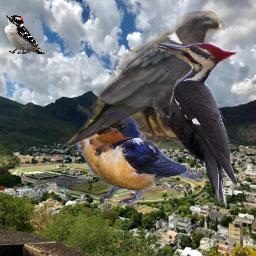Crow: (66, 11, 225, 151)
Swallow: (76, 108, 204, 206)
Woodpecker: (153, 43, 239, 208), (4, 15, 45, 54)
